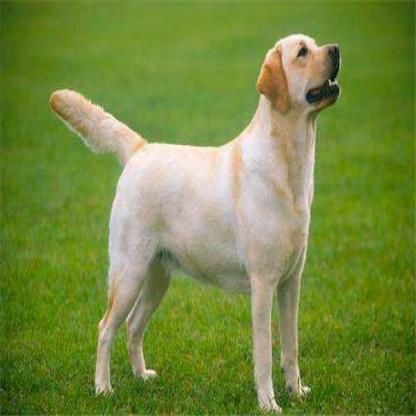dog: (48, 38, 341, 416)
